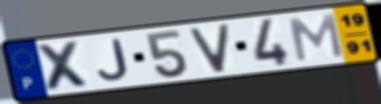4: (251, 17, 292, 69)
5: (143, 27, 190, 80)
J: (96, 38, 132, 83)
M: (286, 12, 346, 63)
V: (186, 22, 232, 75)
X: (33, 39, 95, 93)
